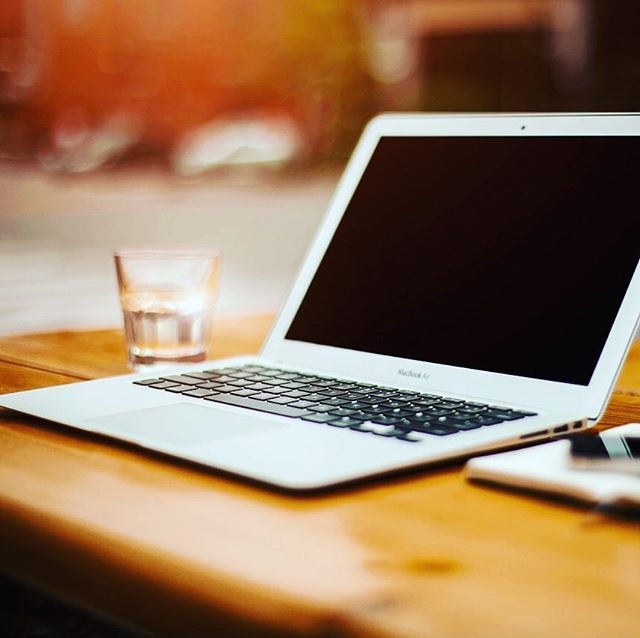glass of water: (124, 241, 211, 363)
